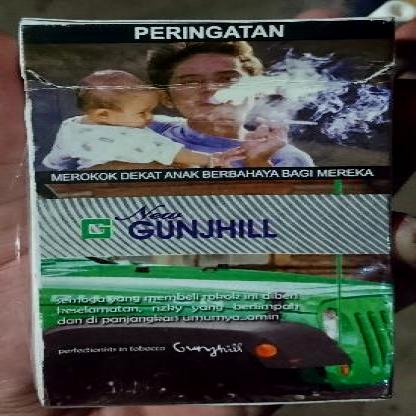objects: (20, 18, 396, 408)
